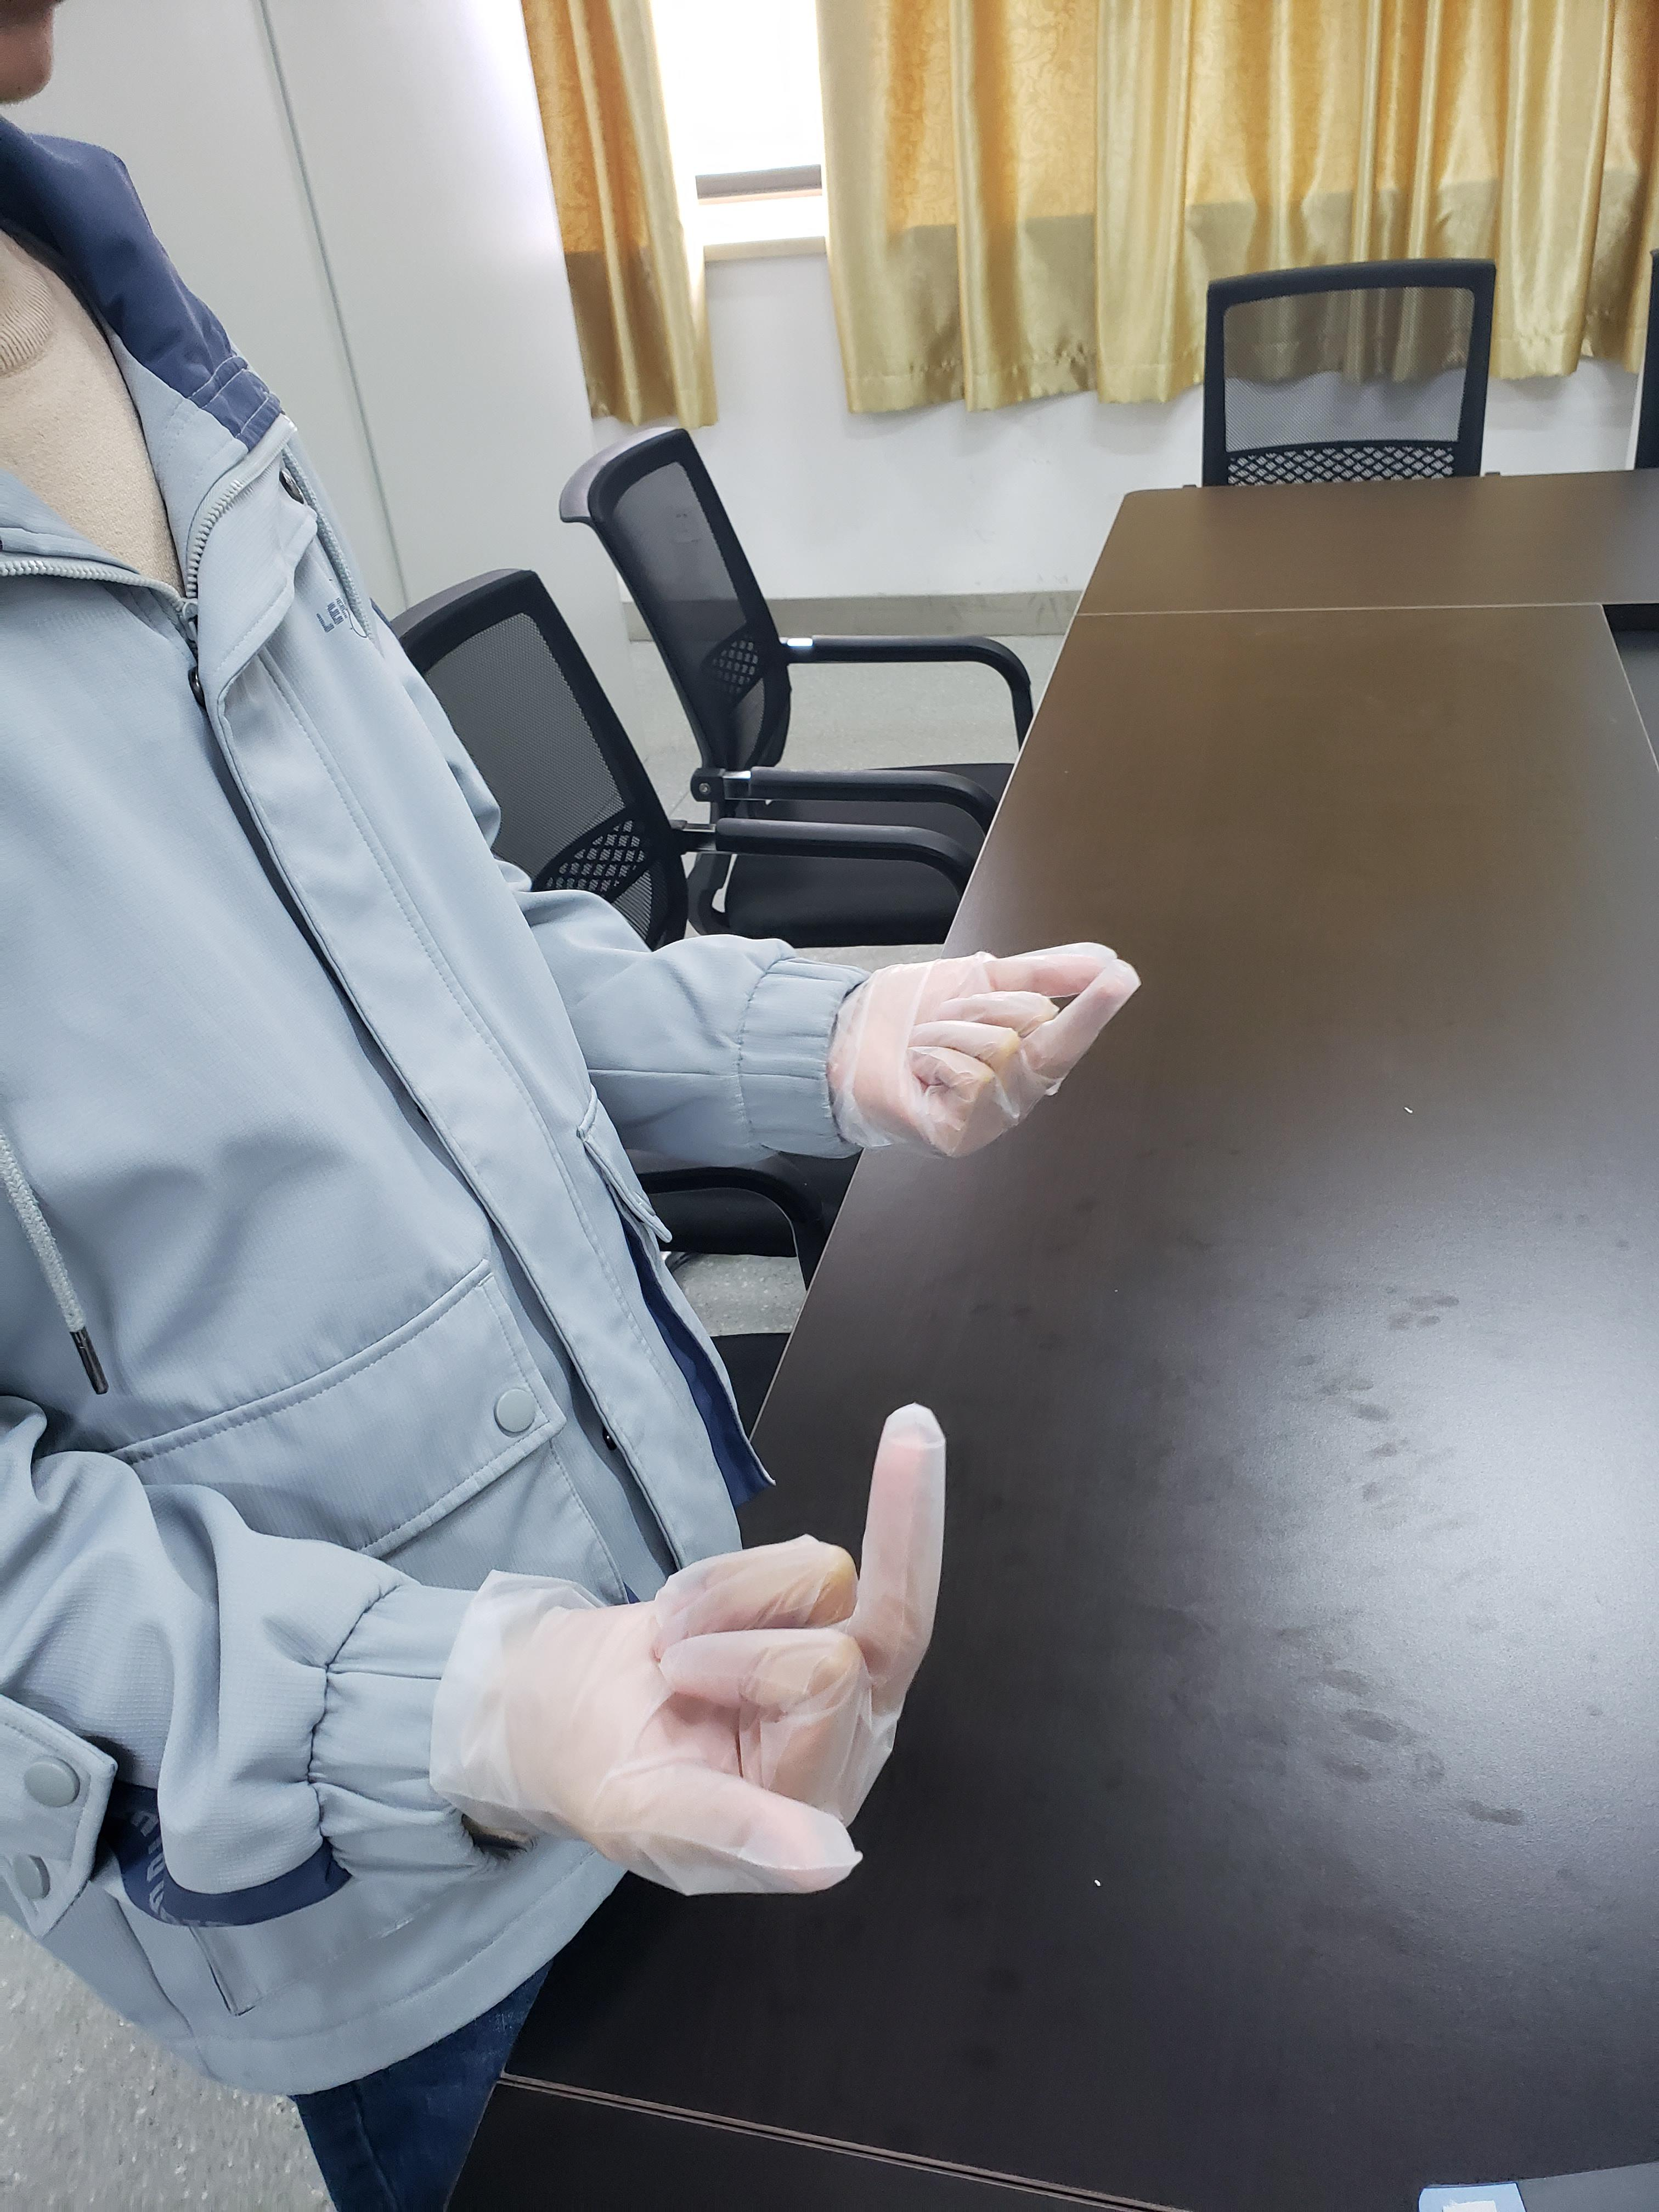gloves: (427, 1393, 979, 1926), (816, 944, 1140, 1174)
